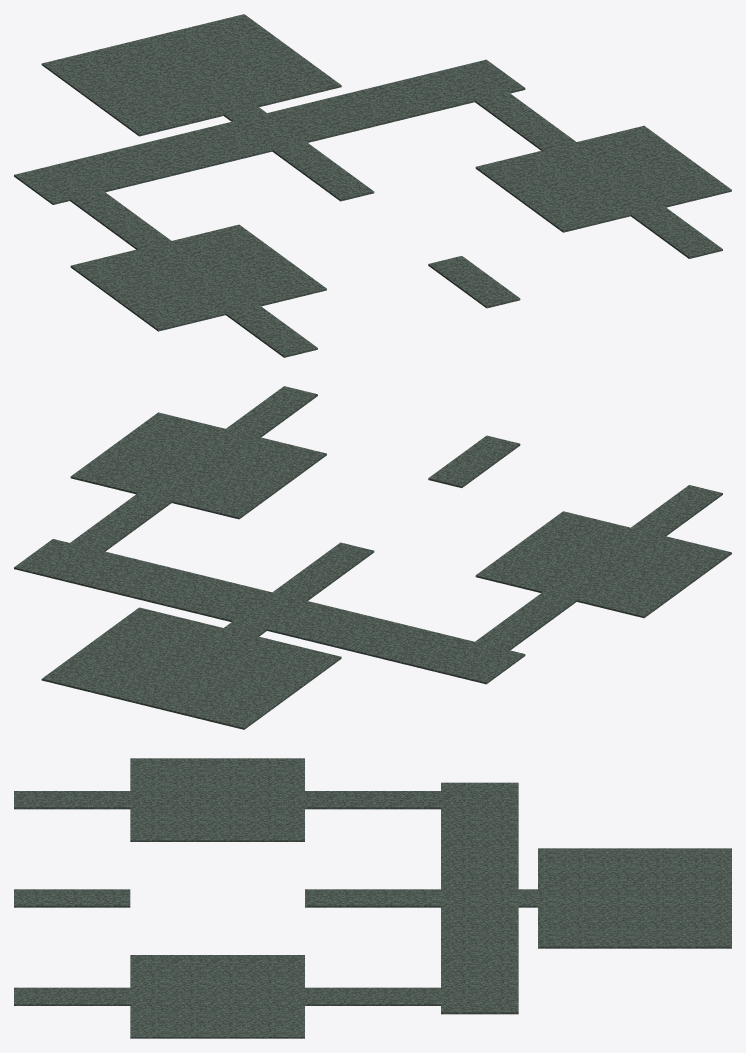
The model's file is FERI_Removable_Roofs.fbx.
The picture shows the model from 3 angles, top to bottom: view 1: azimuth 30°, elevation 25°; view 2: azimuth 150°, elevation 25°; view 3: azimuth 270°, elevation 25°; orthographic projection.
Parts seen in each view (by area): view 1: PL_Removable_Roofs_Concrete; view 2: PL_Removable_Roofs_Concrete; view 3: PL_Removable_Roofs_Concrete.
Boxes of the visible parts, x1,y1,x2,y2 form: PL_Removable_Roofs_Concrete: (14, 14, 731, 357); PL_Removable_Roofs_Concrete: (14, 386, 731, 729); PL_Removable_Roofs_Concrete: (14, 758, 731, 1038).
Size of the model in its own units: 68 by 0.2 by 74.
1 material, 1 textured.
